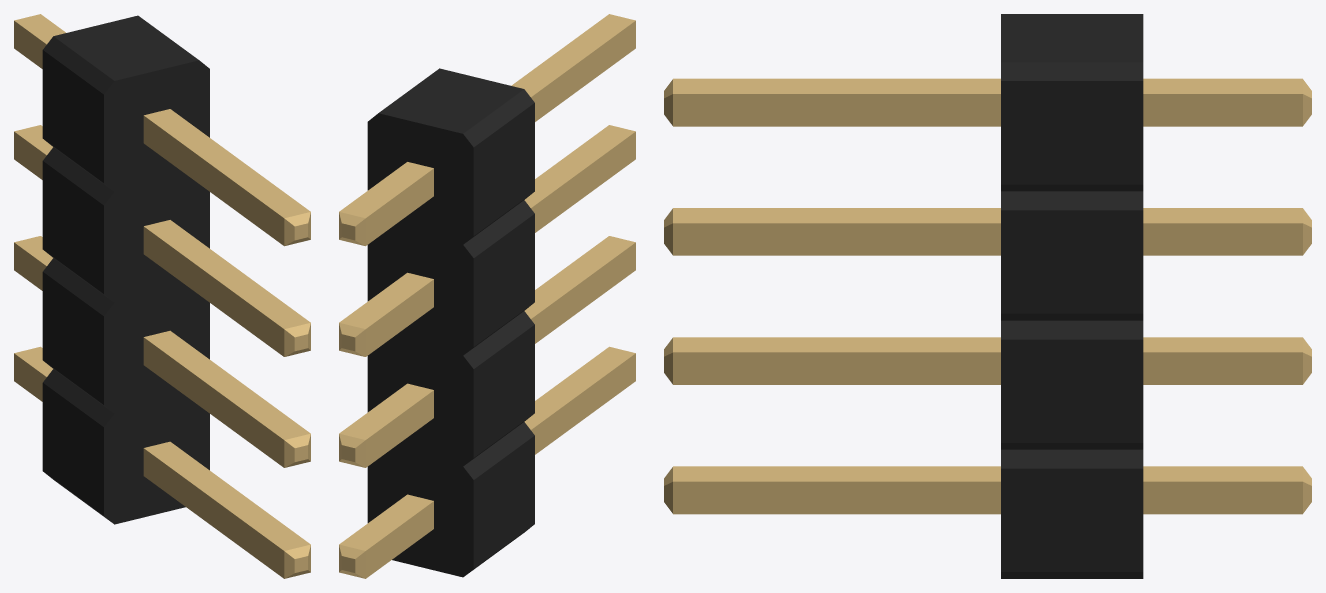
File: PinHeader_1x04_P2.54mm_Vertical.glb
The picture shows the model from 3 angles, left to right: view 1: azimuth 30°, elevation 25°; view 2: azimuth 150°, elevation 25°; view 3: azimuth 270°, elevation 25°; orthographic projection. The views are drawn at different scales.
Parts seen in each view (by area): view 1: PinHeader_1x04_P254mm_Vertical_2af3c7, PinHeader_1x04_P254mm_Vertical_d34afd; view 2: PinHeader_1x04_P254mm_Vertical_2af3c7, PinHeader_1x04_P254mm_Vertical_d34afd; view 3: PinHeader_1x04_P254mm_Vertical_d34afd, PinHeader_1x04_P254mm_Vertical_2af3c7.
Boxes of the visible parts, <box> form: PinHeader_1x04_P254mm_Vertical_2af3c7: <box>42,15,209,524</box>; PinHeader_1x04_P254mm_Vertical_d34afd: <box>14,14,310,578</box>; PinHeader_1x04_P254mm_Vertical_2af3c7: <box>367,68,534,577</box>; PinHeader_1x04_P254mm_Vertical_d34afd: <box>339,14,635,578</box>; PinHeader_1x04_P254mm_Vertical_d34afd: <box>664,78,1311,514</box>; PinHeader_1x04_P254mm_Vertical_2af3c7: <box>1001,14,1143,578</box>.
Size of the model in its own units: 0.00254 by 0.0102 by 0.0115.
